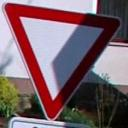preferencia: (3, 2, 123, 121)
